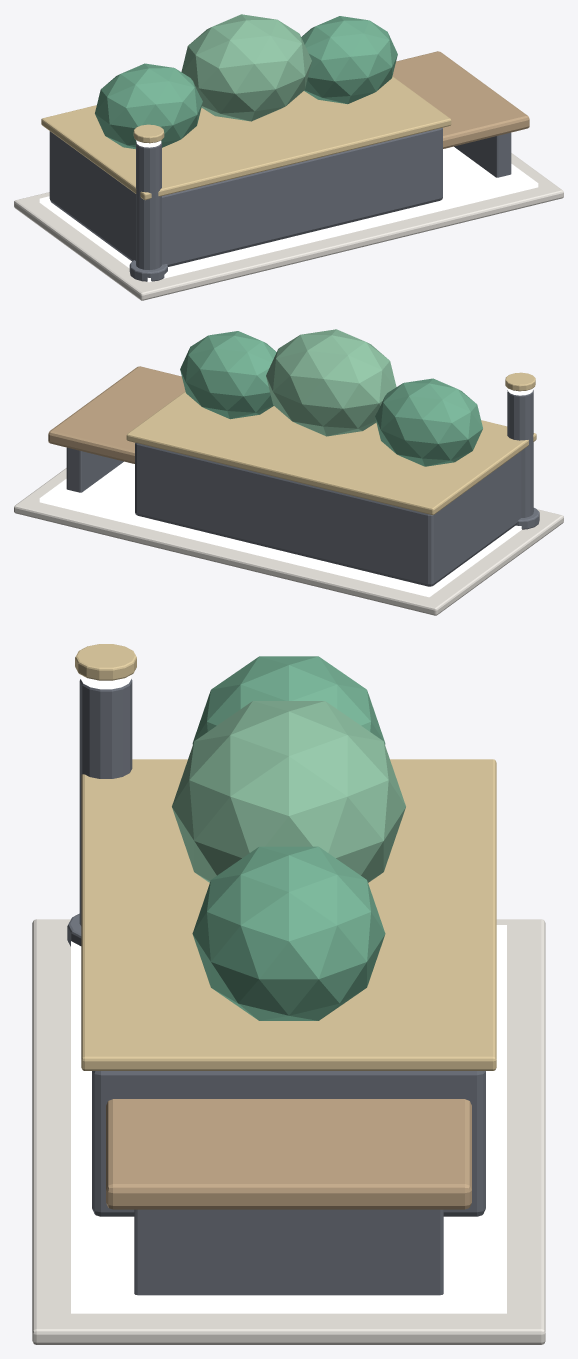
Rendered from avenue_planter_island_v27_5.glb.
3 renders of one model, top to bottom at view 1: azimuth 30°, elevation 25°; view 2: azimuth 150°, elevation 25°; view 3: azimuth 270°, elevation 25°, orthographic. The views are drawn at different scales.
Parts seen in each view (by area): view 1: V275Mat_IslandSlate, V275Mat_IslandBrass, V275Mat_IslandGreen1, V275Mat_IslandStone, V275Mat_IslandGreen2, V275Mat_IslandWarmLED, V275Mat_IslandOak; view 2: V275Mat_IslandSlate, V275Mat_IslandBrass, V275Mat_IslandGreen1, V275Mat_IslandStone, V275Mat_IslandGreen2, V275Mat_IslandWarmLED, V275Mat_IslandOak; view 3: V275Mat_IslandBrass, V275Mat_IslandSlate, V275Mat_IslandStone, V275Mat_IslandOak, V275Mat_IslandGreen1, V275Mat_IslandGreen2, V275Mat_IslandWarmLED.
Part boxes in pixels (<box>): V275Mat_IslandSlate: <box>49,128,511,281</box>; V275Mat_IslandBrass: <box>41,76,451,200</box>; V275Mat_IslandGreen1: <box>95,16,397,149</box>; V275Mat_IslandStone: <box>14,153,563,300</box>; V275Mat_IslandGreen2: <box>181,14,311,121</box>; V275Mat_IslandWarmLED: <box>39,140,538,282</box>; V275Mat_IslandOak: <box>392,51,529,148</box>; V275Mat_IslandSlate: <box>66,390,539,586</box>; V275Mat_IslandBrass: <box>126,372,536,515</box>; V275Mat_IslandGreen1: <box>180,331,482,466</box>; V275Mat_IslandStone: <box>14,468,563,615</box>; V275Mat_IslandGreen2: <box>266,329,396,436</box>; V275Mat_IslandWarmLED: <box>39,388,532,597</box>; V275Mat_IslandOak: <box>48,366,185,463</box>; V275Mat_IslandBrass: <box>75,644,496,1070</box>; V275Mat_IslandSlate: <box>67,679,485,1295</box>; V275Mat_IslandStone: <box>32,919,545,1344</box>; V275Mat_IslandOak: <box>106,1099,471,1209</box>; V275Mat_IslandGreen1: <box>192,656,385,1020</box>; V275Mat_IslandGreen2: <box>172,701,405,882</box>; V275Mat_IslandWarmLED: <box>71,675,506,1313</box>.
Size of the model in its own units: 2.78 by 1.21 by 1.46.
